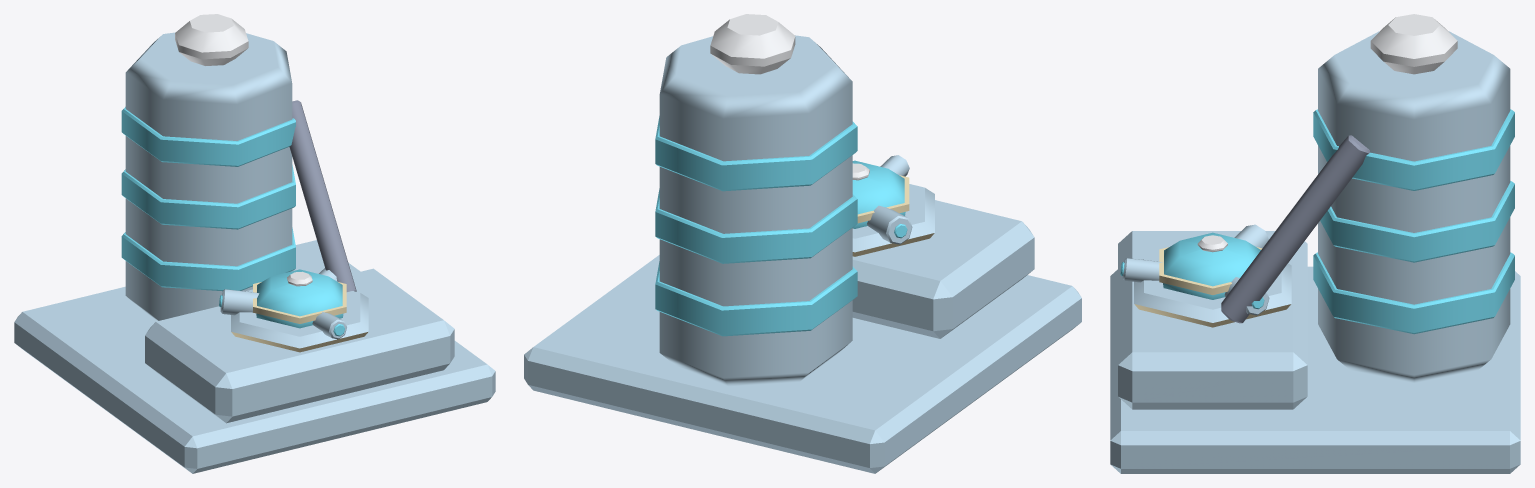
The model's file is R4X_SlowTrapDeployer_LOD1.glb.
3 views of the same model, side by side, from view 1: azimuth 30°, elevation 25°; view 2: azimuth 150°, elevation 25°; view 3: azimuth 270°, elevation 25° (orthographic). The views are drawn at different scales.
Parts seen in each view (by area): view 1: R4X_SlowTrapDeployer_LOD1; view 2: R4X_SlowTrapDeployer_LOD1; view 3: R4X_SlowTrapDeployer_LOD1.
Part boxes in pixels (x1,y1,x2,y2): R4X_SlowTrapDeployer_LOD1: (14,14,495,473); R4X_SlowTrapDeployer_LOD1: (524,14,1081,473); R4X_SlowTrapDeployer_LOD1: (1110,14,1520,473).
Bounding box in the file's own units: 0.52 × 0.5125 × 0.52.
